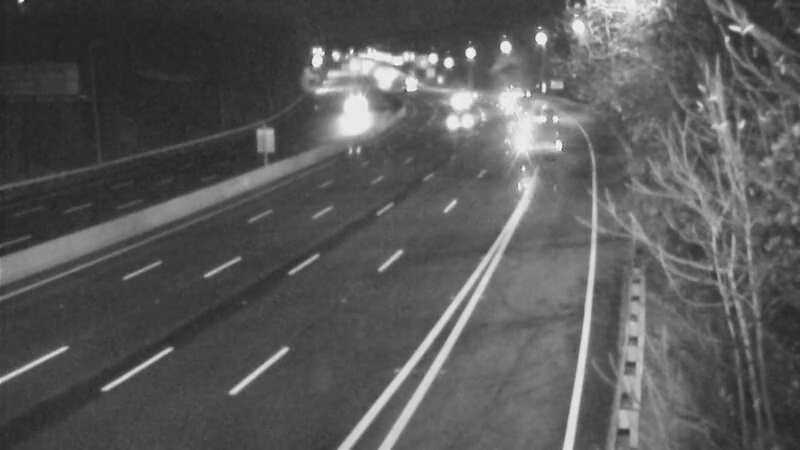vehicle: (382, 56, 432, 106), (485, 72, 535, 122), (433, 76, 483, 126), (436, 95, 486, 145), (507, 104, 557, 154), (328, 85, 378, 135)
